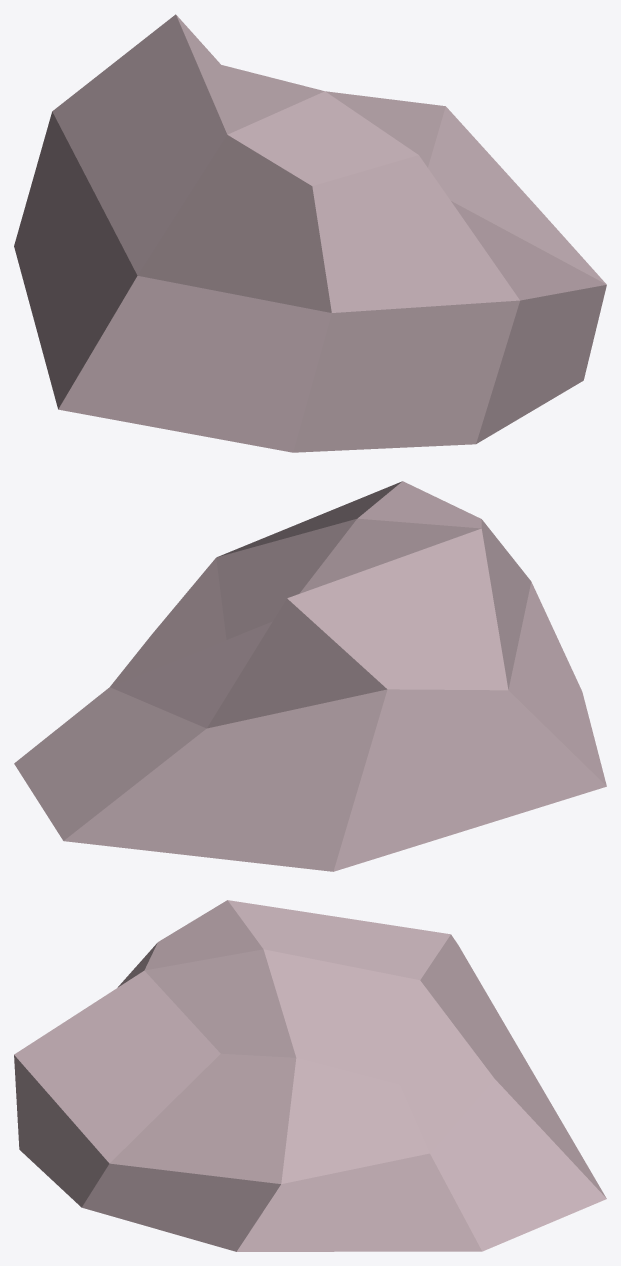
The model's file is a_rock5.fbx.
3 views of the same model, one above another, from view 1: azimuth 30°, elevation 25°; view 2: azimuth 150°, elevation 25°; view 3: azimuth 270°, elevation 25° (orthographic). The views are drawn at different scales.
Parts seen in each view (by area): view 1: pCube1; view 2: pCube1; view 3: pCube1.
Part boxes in pixels (bbox=[...]): pCube1: bbox=[14, 14, 606, 452]; pCube1: bbox=[14, 481, 606, 871]; pCube1: bbox=[14, 900, 606, 1251].
Size of the model in its own units: 15.56 by 6.86 by 18.29.
